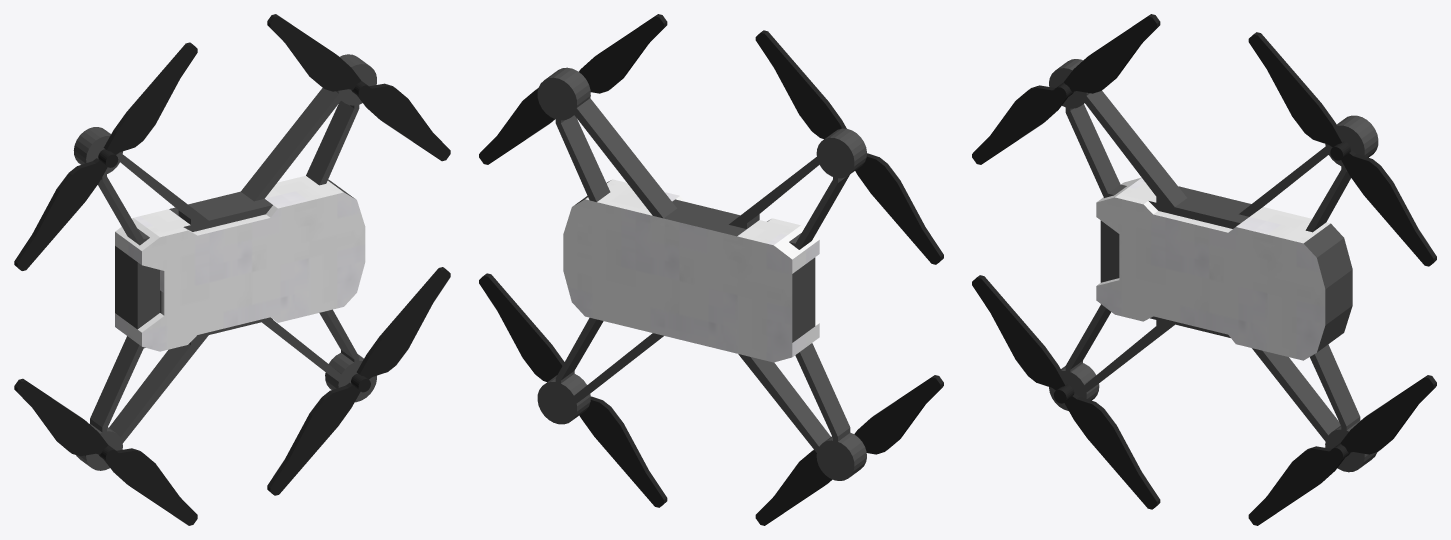
The model's file is sequencer_demo.dae.
3 renders of one model, left to right at view 1: azimuth 30°, elevation 25°; view 2: azimuth 150°, elevation 25°; view 3: azimuth 330°, elevation 25°, orthographic. The views are drawn at different scales.
Visible parts, largest first — view 1: node; view 2: node; view 3: node.
Part boxes in pixels (bbox=[...]): node: bbox=[14, 14, 450, 525]; node: bbox=[479, 14, 943, 525]; node: bbox=[972, 14, 1436, 525].
Size of the model in its own units: 0.1194 by 0.124 by 0.0137.
3 materials, 3 textured.
